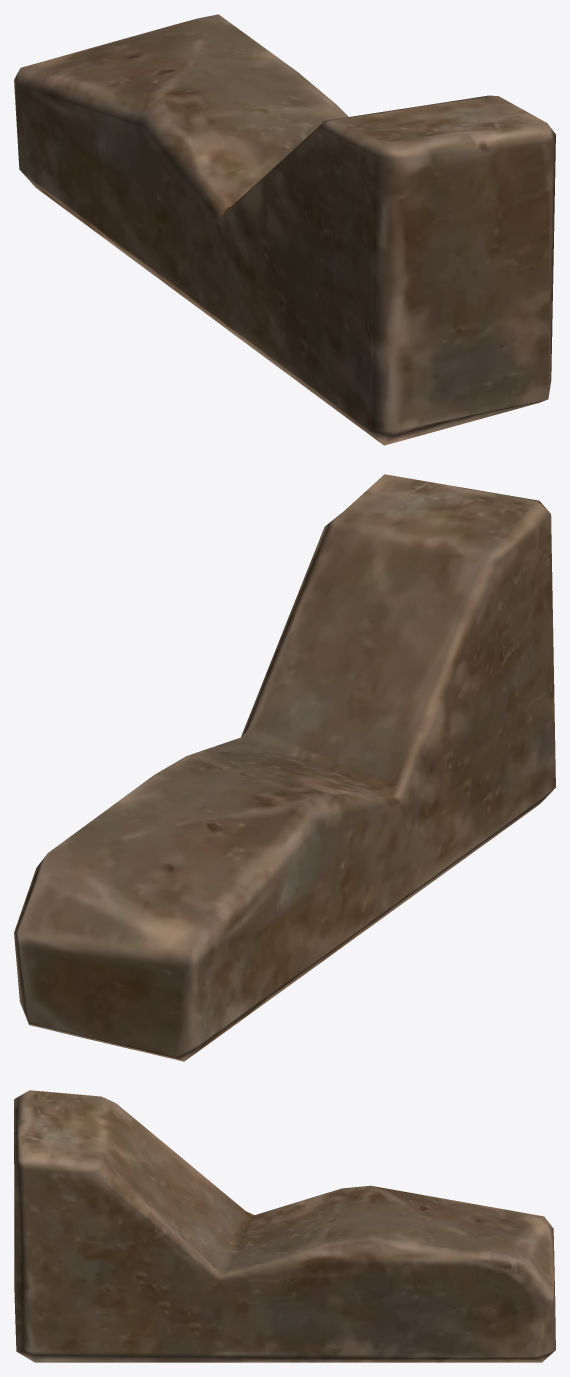
3 renders of one model, top to bottom at view 1: azimuth 30°, elevation 25°; view 2: azimuth 150°, elevation 25°; view 3: azimuth 270°, elevation 25°, orthographic. The views are drawn at different scales.
Parts seen in each view (by area): view 1: SM_DK_Brick_03_LOD0; view 2: SM_DK_Brick_03_LOD0; view 3: SM_DK_Brick_03_LOD0.
Boxes of the visible parts, x1,y1,x2,y2 form: SM_DK_Brick_03_LOD0: [14, 14, 555, 445]; SM_DK_Brick_03_LOD0: [14, 474, 555, 1061]; SM_DK_Brick_03_LOD0: [14, 1090, 555, 1362].
Bounding box in the file's own units: 0.7682 × 1.19 × 2.68.
1 material, 1 textured.
